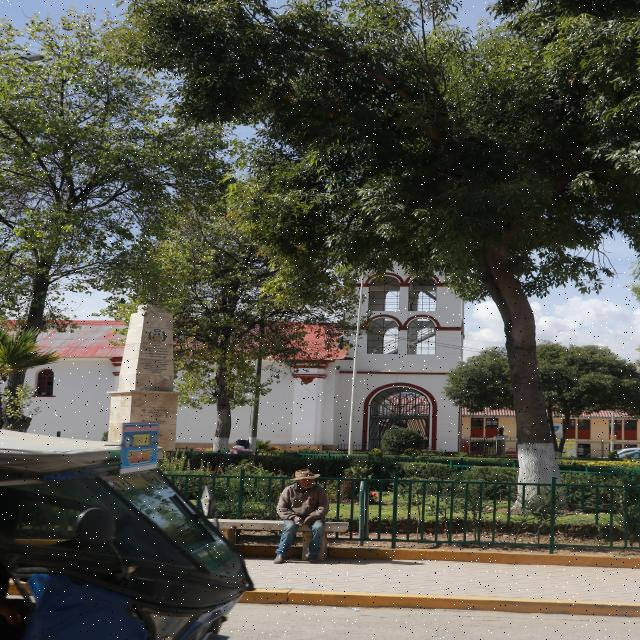TORRES: (334, 200, 468, 455)
colonial-architecture-: (0, 191, 516, 453)
